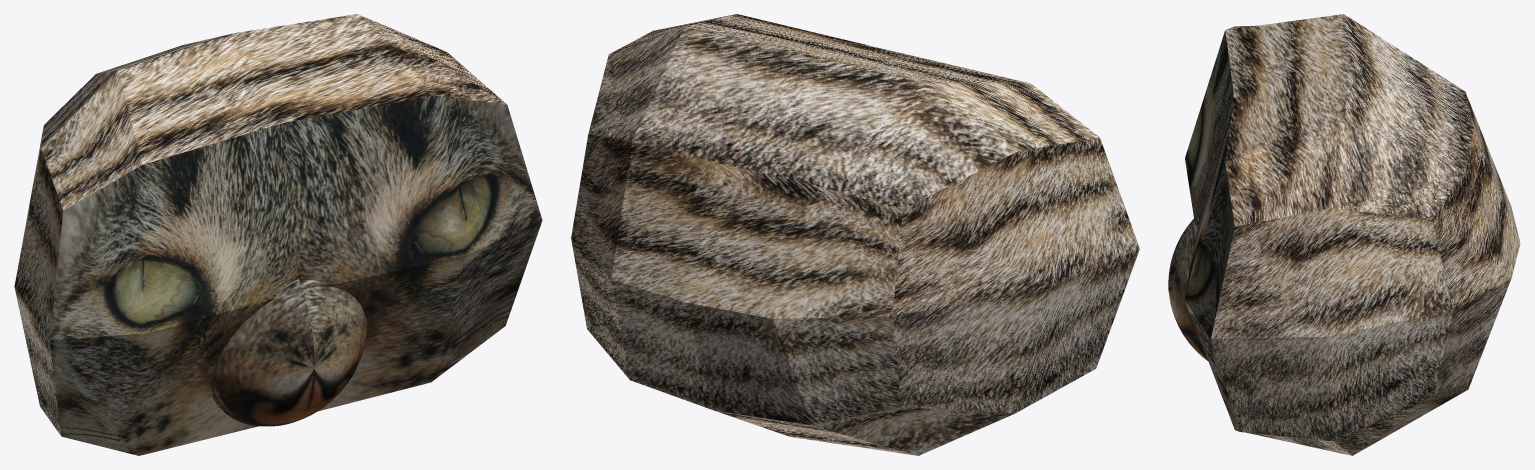
Rendered from Cat.glb.
The picture shows the model from 3 angles, left to right: view 1: azimuth 30°, elevation 25°; view 2: azimuth 150°, elevation 25°; view 3: azimuth 270°, elevation 25°; orthographic projection. The views are drawn at different scales.
Parts seen in each view (by area): view 1: Cube; view 2: Cube; view 3: Cube.
Boxes of the visible parts, box(x1,y1,x2,y2) form: Cube: box(14, 14, 542, 455); Cube: box(571, 14, 1139, 455); Cube: box(1168, 14, 1520, 455).
Bounding box in the file's own units: 3.21 × 2.35 × 2.17.
Materials: 2 (2 with a texture image).
